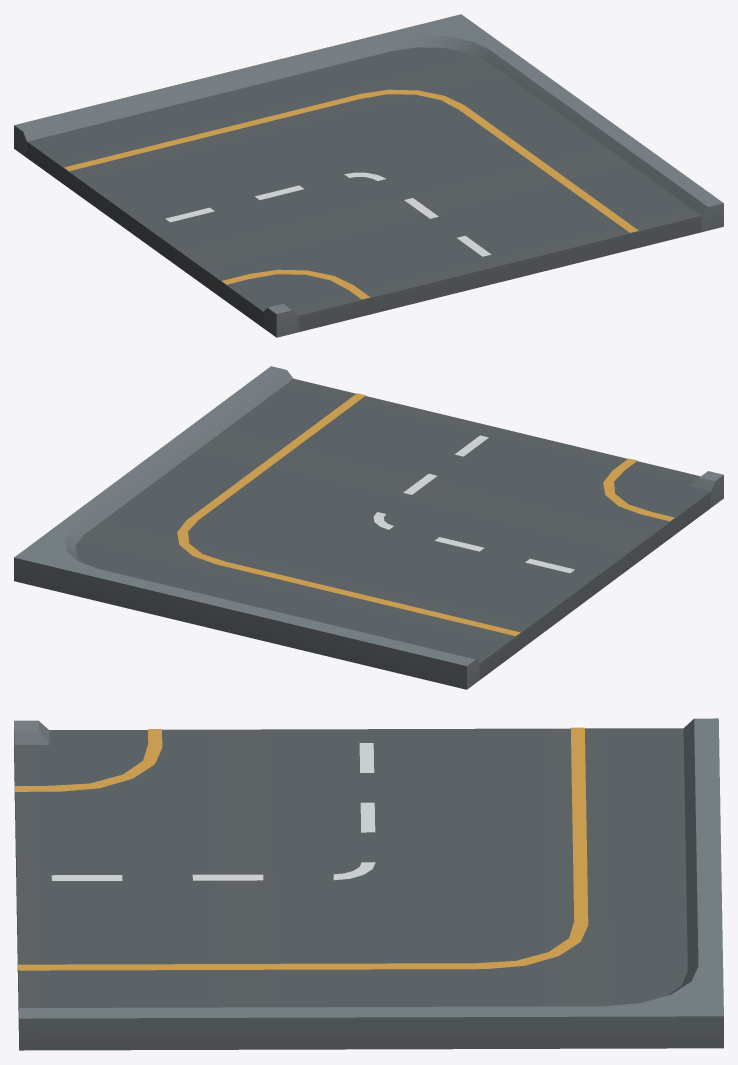
File: roadcorner_lev3.glb
3 views of the same model, one above another, from view 1: azimuth 30°, elevation 25°; view 2: azimuth 150°, elevation 25°; view 3: azimuth 270°, elevation 25° (orthographic). The views are drawn at different scales.
Visible parts, largest first — view 1: road_corner; view 2: road_corner; view 3: road_corner.
Boxes of the visible parts, <box> form: road_corner: <box>14,14,723,337</box>; road_corner: <box>14,366,723,689</box>; road_corner: <box>14,718,723,1050</box>.
Bounding box in the file's own units: 18.83 × 0.9358 × 18.83.
Materials: 1 (1 with a texture image).
